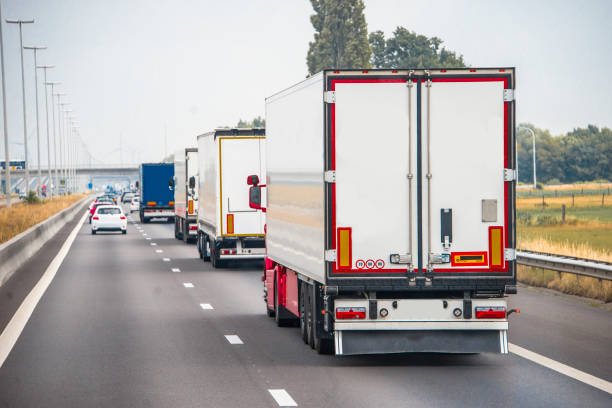Car: (90, 202, 126, 235)
Semi: (246, 68, 518, 363), (188, 128, 269, 267)
